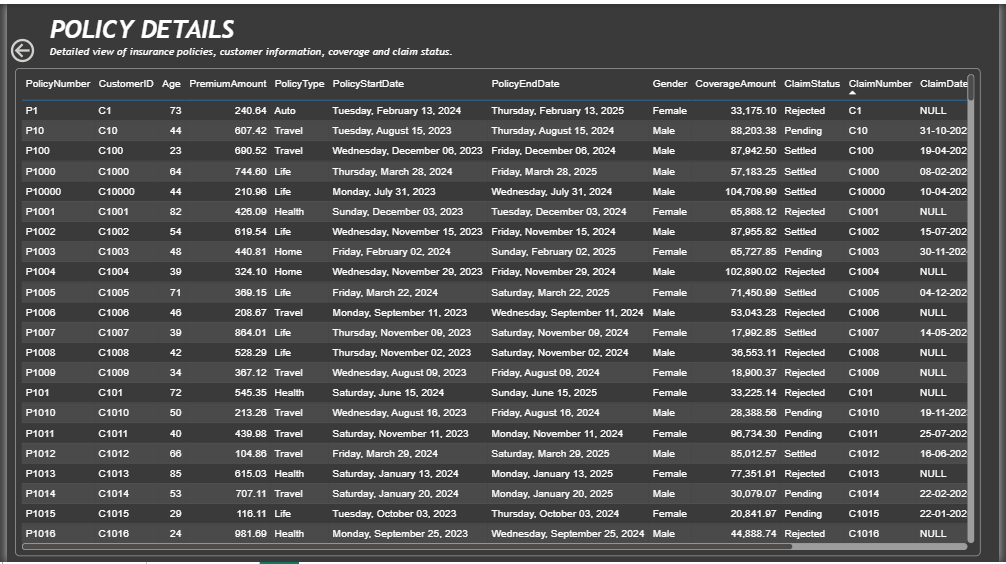

This screenshot's page, from the dashboard's own definition file:
{"tool":"powerbi","page":{"name":"Policy Details","canvas":[1280,720],"ordinal":1},"visuals":[{"type":"tableEx","fields":{"Values":["InsuranceData.PolicyNumber","InsuranceData.CustomerID","InsuranceData.Age","InsuranceData.PremiumAmount","InsuranceData.PolicyType","InsuranceData.PolicyStartDate","InsuranceData.PolicyEndDate","InsuranceData.Gender","InsuranceData.CoverageAmount","InsuranceData.ClaimStatus","InsuranceData.ClaimNumber","InsuranceData.ClaimDate"]},"box":[10,83,1246.5,630],"z":0},{"type":"actionButton","box":[0,40,100,40],"z":1000},{"type":"textbox","box":[50.6,8.7,306.5,52],"z":2000},{"type":"textbox","box":[50.6,47.7,776.4,26],"z":3000}]}

Visuals, with their boxes in screenshot pixels (x1, y1, x2, y2), scaled from the page's 1280x720 canvas onto the 1006x564 screenshot:
tableEx - InsuranceData.PolicyNumber x InsuranceData.CustomerID: x1=8 y1=65 x2=988 y2=559
actionButton: x1=0 y1=31 x2=79 y2=63
textbox: x1=40 y1=7 x2=281 y2=48
textbox: x1=40 y1=37 x2=650 y2=58
